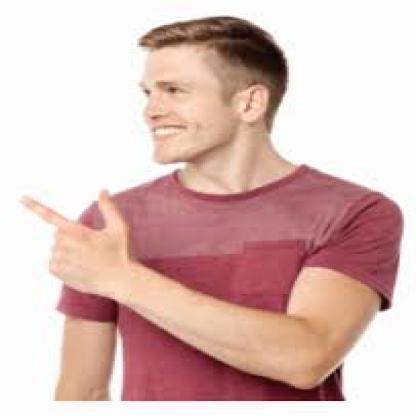Right: (16, 186, 150, 308)
